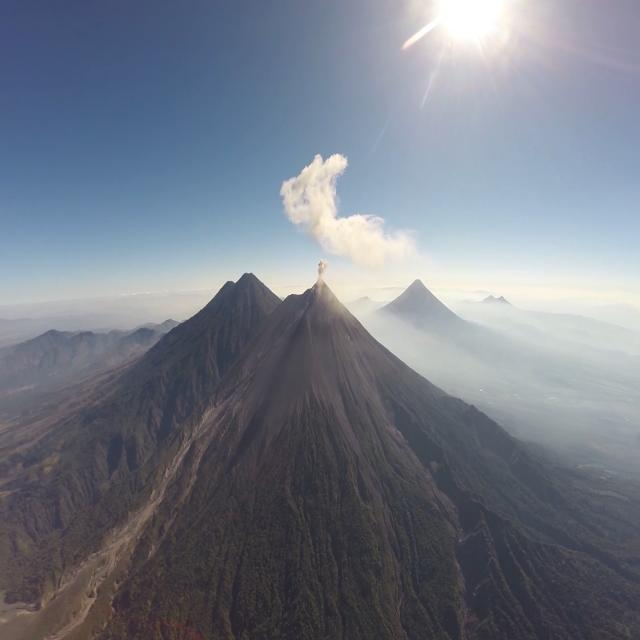Plume: (279, 149, 416, 269), (315, 257, 327, 282)
Summit: (306, 276, 335, 296)
